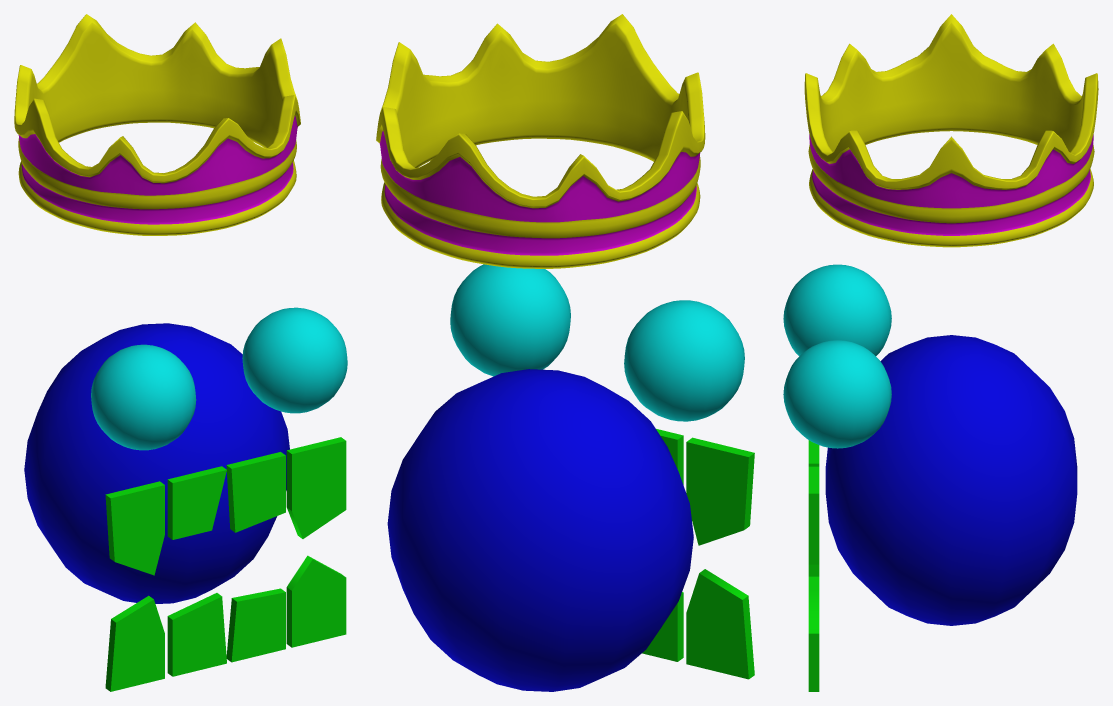
File: eggBenedictP3.fbx
The picture shows the model from 3 angles, left to right: view 1: azimuth 30°, elevation 25°; view 2: azimuth 150°, elevation 25°; view 3: azimuth 270°, elevation 25°; orthographic projection. The views are drawn at different scales.
Parts seen in each view (by area): view 1: eggBenedictPhase3; view 2: eggBenedictPhase3; view 3: eggBenedictPhase3.
Part boxes in pixels (bbox=[...]): eggBenedictPhase3: bbox=[14, 14, 347, 691]; eggBenedictPhase3: bbox=[376, 14, 754, 691]; eggBenedictPhase3: bbox=[783, 14, 1098, 691].
Bounding box in the file's own units: 362 × 749 × 382.
